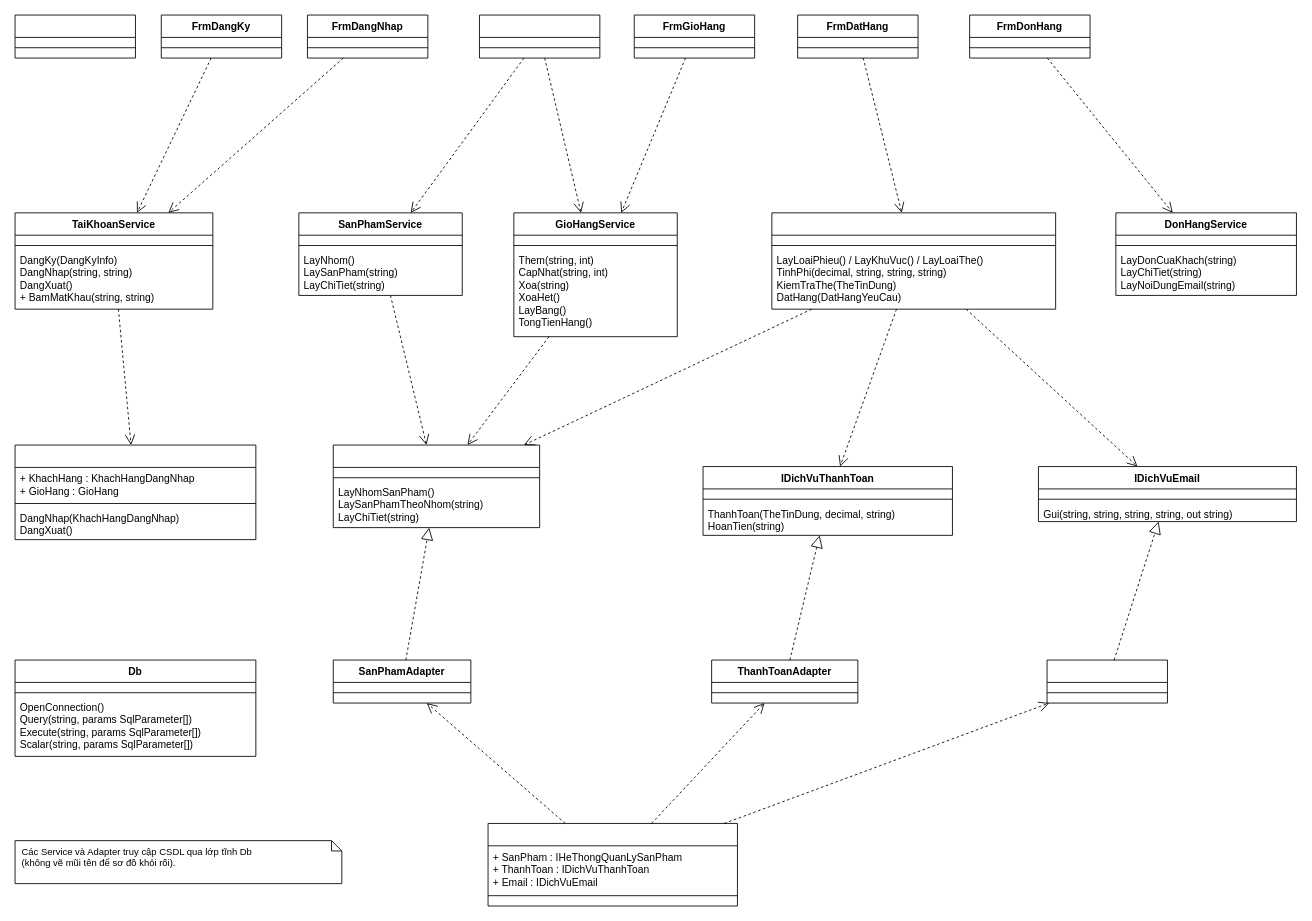
Image size: 1312x921. Some labels were removed from this diagram. Each missing label, with the box of its shape:
DatHangService: (771, 212, 1056, 309)
EmailAdapter: (1046, 659, 1167, 703)
FrmMain: (14, 14, 135, 58)
FrmSanPham: (479, 14, 600, 58)
HeThongNgoai: (487, 823, 737, 906)
IHeThongQuanLySanPham: (332, 444, 540, 528)
PhienLamViec: (14, 444, 256, 540)
